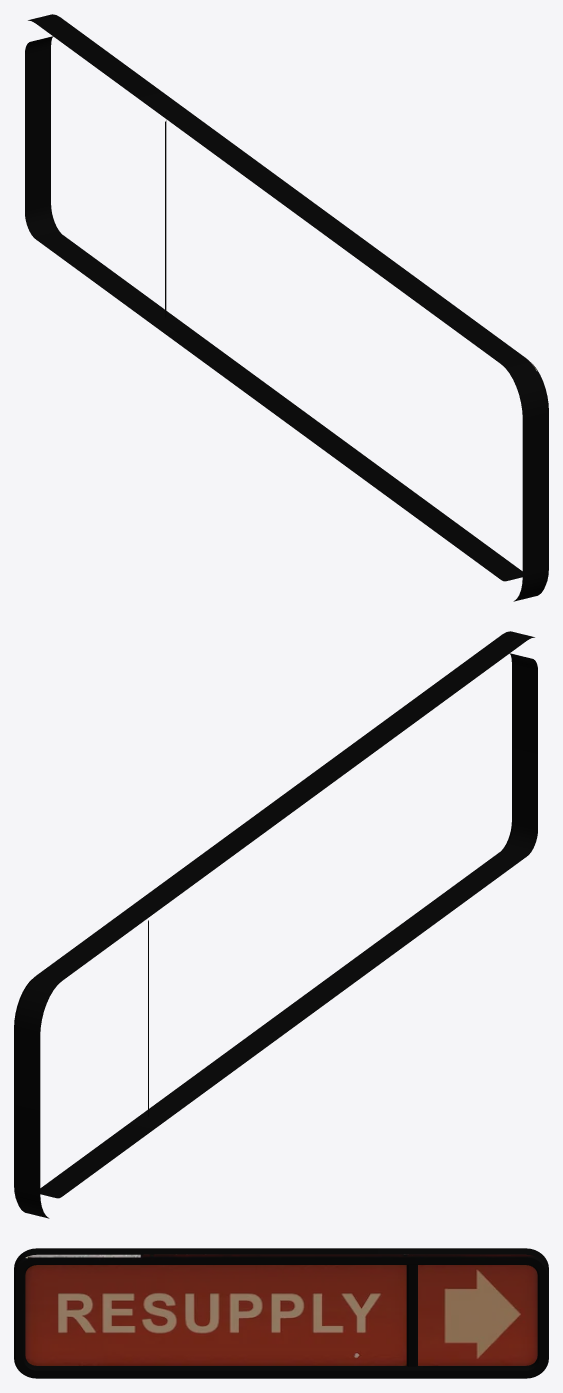
3 renders of one model, top to bottom at view 1: azimuth 30°, elevation 25°; view 2: azimuth 150°, elevation 25°; view 3: azimuth 270°, elevation 25°, orthographic. The views are drawn at different scales.
Visible parts, largest first — view 1: body0_model0_lod0_mesh0; view 2: body0_model0_lod0_mesh0; view 3: body0_model0_lod0_mesh0.
Boxes of the visible parts, left/top/right/bottom form: body0_model0_lod0_mesh0: left=25, top=14, right=548, bottom=601; body0_model0_lod0_mesh0: left=14, top=631, right=537, bottom=1218; body0_model0_lod0_mesh0: left=14, top=1248, right=548, bottom=1378.
Bounding box in the file's own units: 1.5 × 12 × 47.
1 material, 1 textured.
